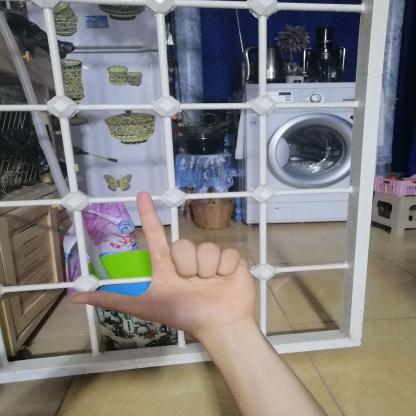LAAM: (50, 180, 274, 344)
